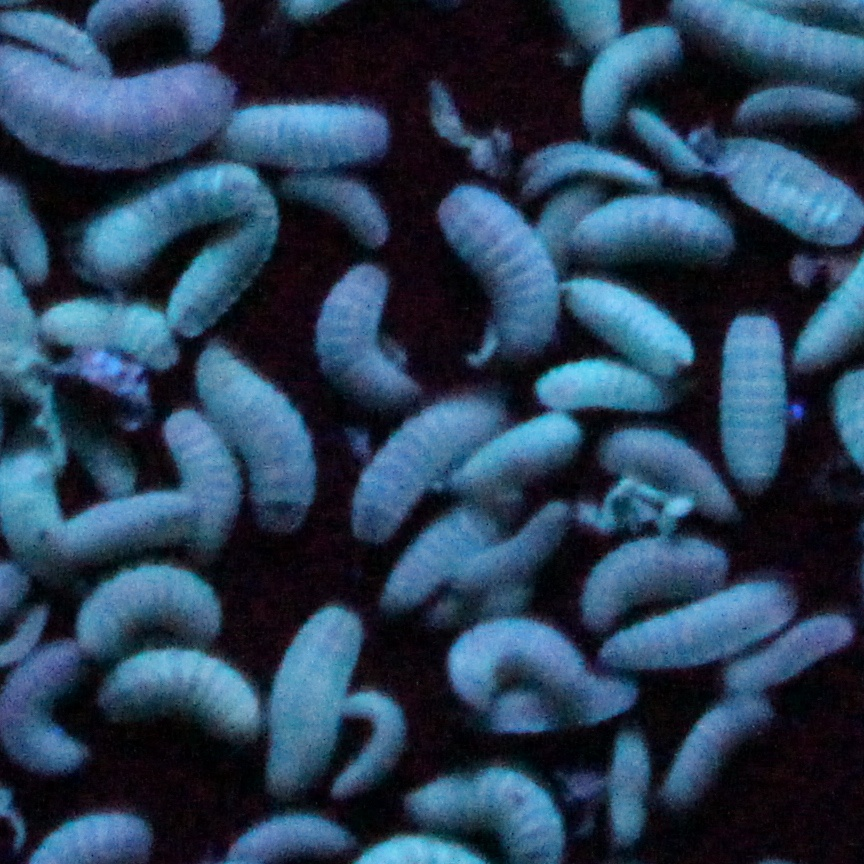larve: (477, 177, 595, 362), (190, 341, 312, 513), (82, 171, 261, 279), (440, 182, 548, 354), (353, 399, 492, 526), (269, 607, 358, 785), (602, 580, 792, 662), (95, 653, 266, 740), (313, 266, 413, 410), (436, 617, 585, 713), (167, 215, 279, 326), (374, 508, 495, 605), (77, 571, 223, 651), (584, 543, 718, 625), (603, 430, 735, 512), (558, 282, 690, 364), (720, 308, 779, 490), (585, 23, 685, 130), (215, 110, 394, 169), (54, 492, 205, 556), (36, 300, 171, 369), (477, 677, 636, 735), (569, 197, 728, 254), (451, 418, 576, 490), (669, 703, 758, 802), (728, 618, 853, 685), (167, 417, 233, 541), (284, 161, 382, 240), (451, 510, 561, 574), (536, 361, 685, 408), (343, 687, 400, 797), (505, 146, 654, 185), (603, 736, 651, 840), (221, 815, 353, 849), (740, 90, 859, 123)
